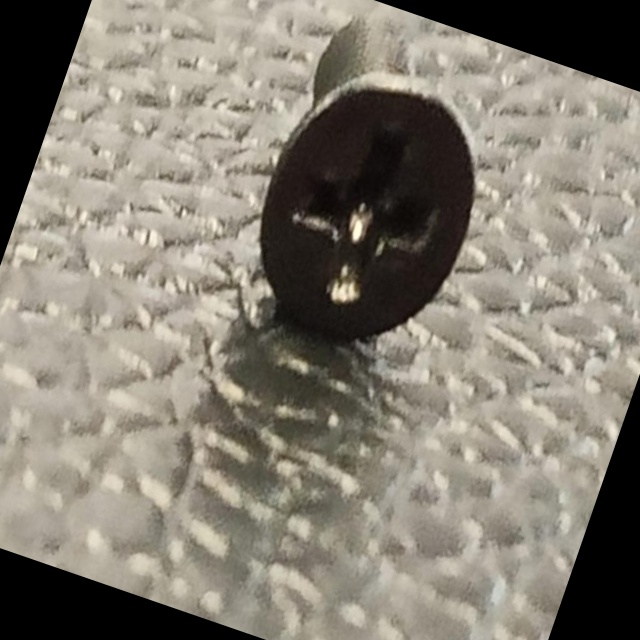phillips: (225, 41, 511, 377)
